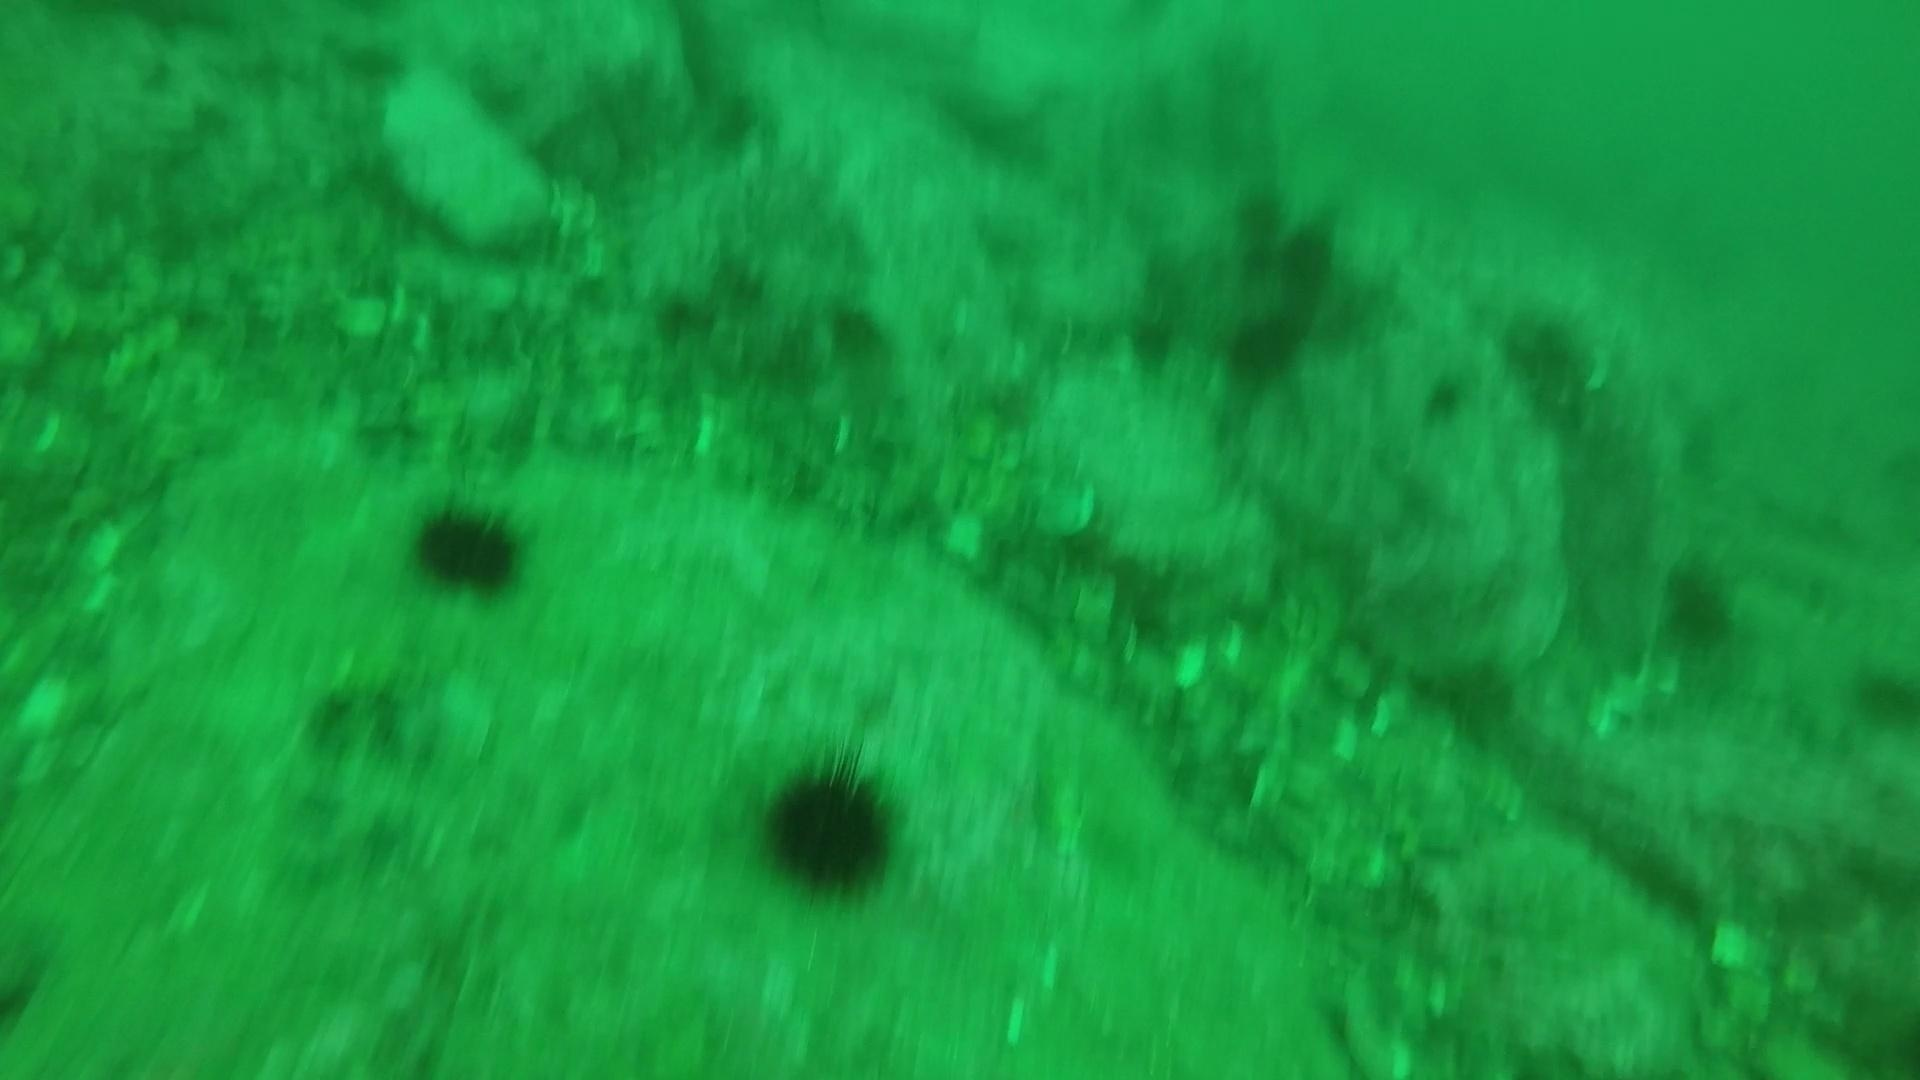echinus: (752, 748, 909, 903), (404, 495, 534, 604), (1654, 554, 1743, 655), (1218, 305, 1311, 389), (1844, 655, 1919, 736), (1269, 215, 1342, 297), (1224, 179, 1296, 255)
